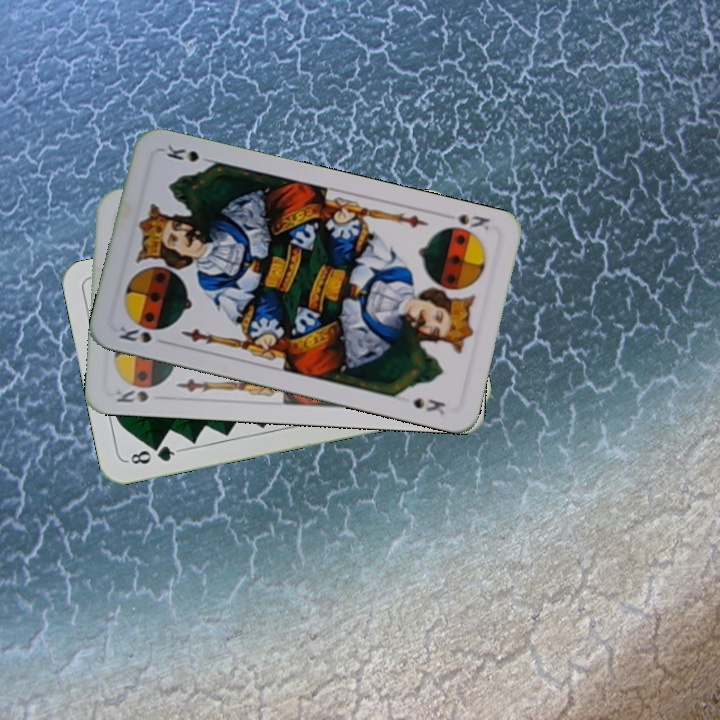G8: (123, 441, 182, 467)
SK: (113, 321, 171, 347), (454, 209, 493, 233), (111, 383, 151, 405)
